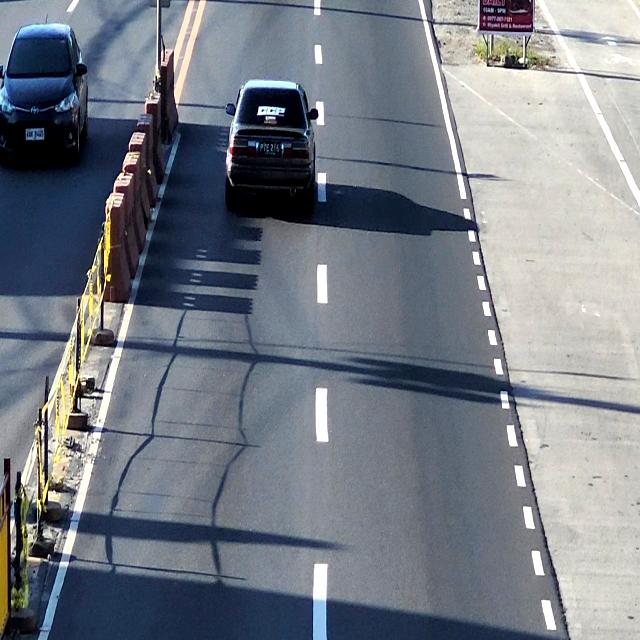Car: (226, 79, 320, 216)
License-Plate: (253, 140, 284, 158)
